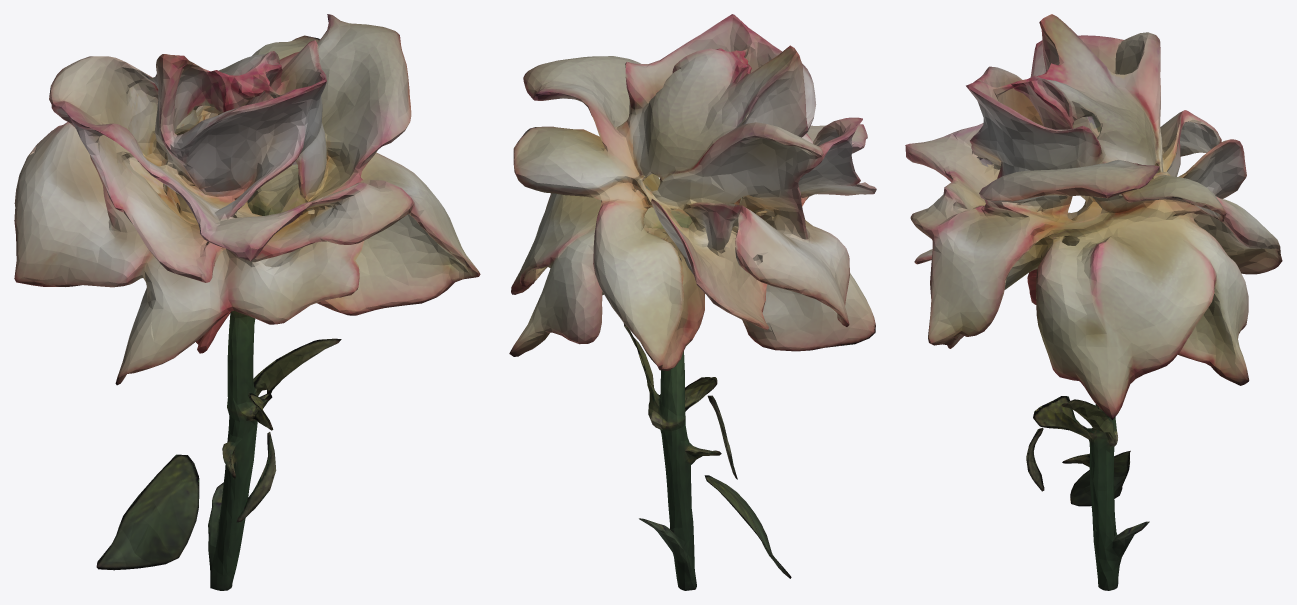
The picture shows the model from 3 angles, left to right: view 1: azimuth 30°, elevation 25°; view 2: azimuth 150°, elevation 25°; view 3: azimuth 270°, elevation 25°; orthographic projection. The views are drawn at different scales.
Parts seen in each view (by area): view 1: world; view 2: world; view 3: world.
Part boxes in pixels (x1,y1,x2,y2): world: (14,14,480,590); world: (509,14,876,590); world: (905,14,1282,590).
Bounding box in the file's own units: 0.632 × 0.9194 × 0.5892.
1 material, 1 textured.
